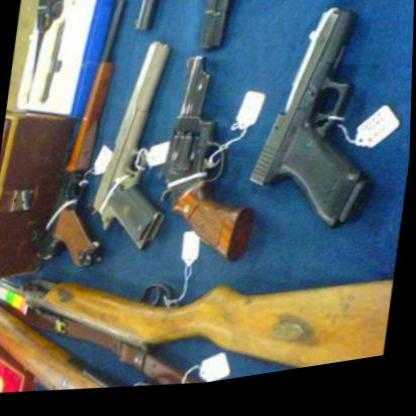pistol: (240, 1, 390, 264), (146, 48, 274, 282), (82, 36, 189, 274)
